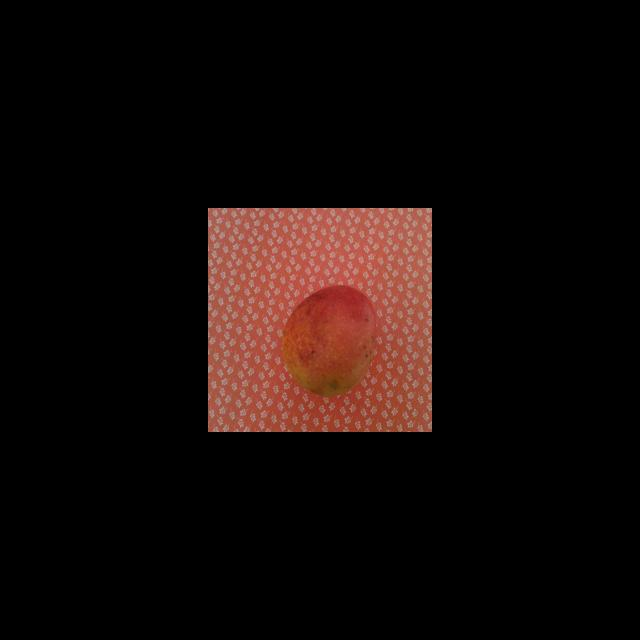Mango: (281, 284, 378, 397)
